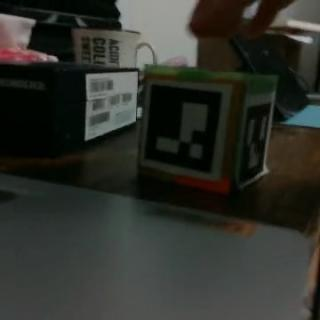armor: (140, 78, 233, 175), (237, 92, 268, 189)
robot: (138, 68, 277, 194)
